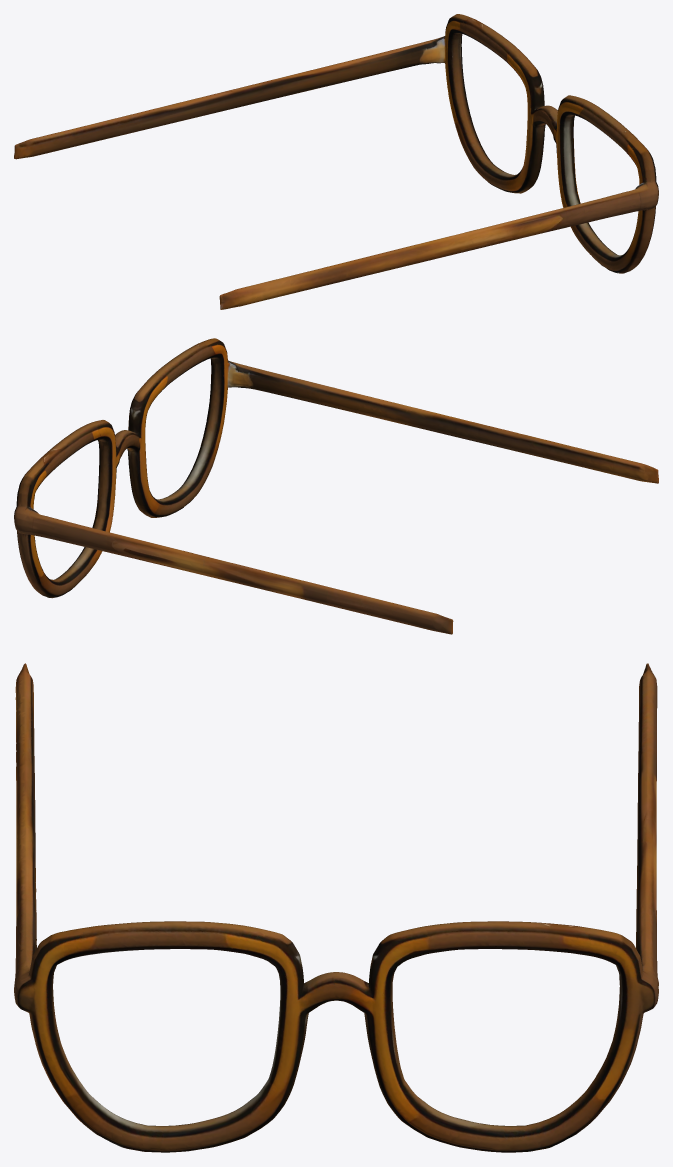
File: 11_020_Mask_Glasses.glb
The picture shows the model from 3 angles, top to bottom: view 1: azimuth 30°, elevation 25°; view 2: azimuth 150°, elevation 25°; view 3: azimuth 270°, elevation 25°; orthographic projection. The views are drawn at different scales.
Visible parts, largest first — view 1: tripo_node_74554123-87ae-4f83-baae-63ee40f6acb2; view 2: tripo_node_74554123-87ae-4f83-baae-63ee40f6acb2; view 3: tripo_node_74554123-87ae-4f83-baae-63ee40f6acb2.
Boxes of the visible parts, bbox=[...] form: tripo_node_74554123-87ae-4f83-baae-63ee40f6acb2: bbox=[14, 14, 658, 309]; tripo_node_74554123-87ae-4f83-baae-63ee40f6acb2: bbox=[14, 338, 658, 634]; tripo_node_74554123-87ae-4f83-baae-63ee40f6acb2: bbox=[14, 663, 658, 1152].
Bounding box in the file's own units: 1 × 0.3276 × 0.8345.
Materials: 1 (1 with a texture image).
